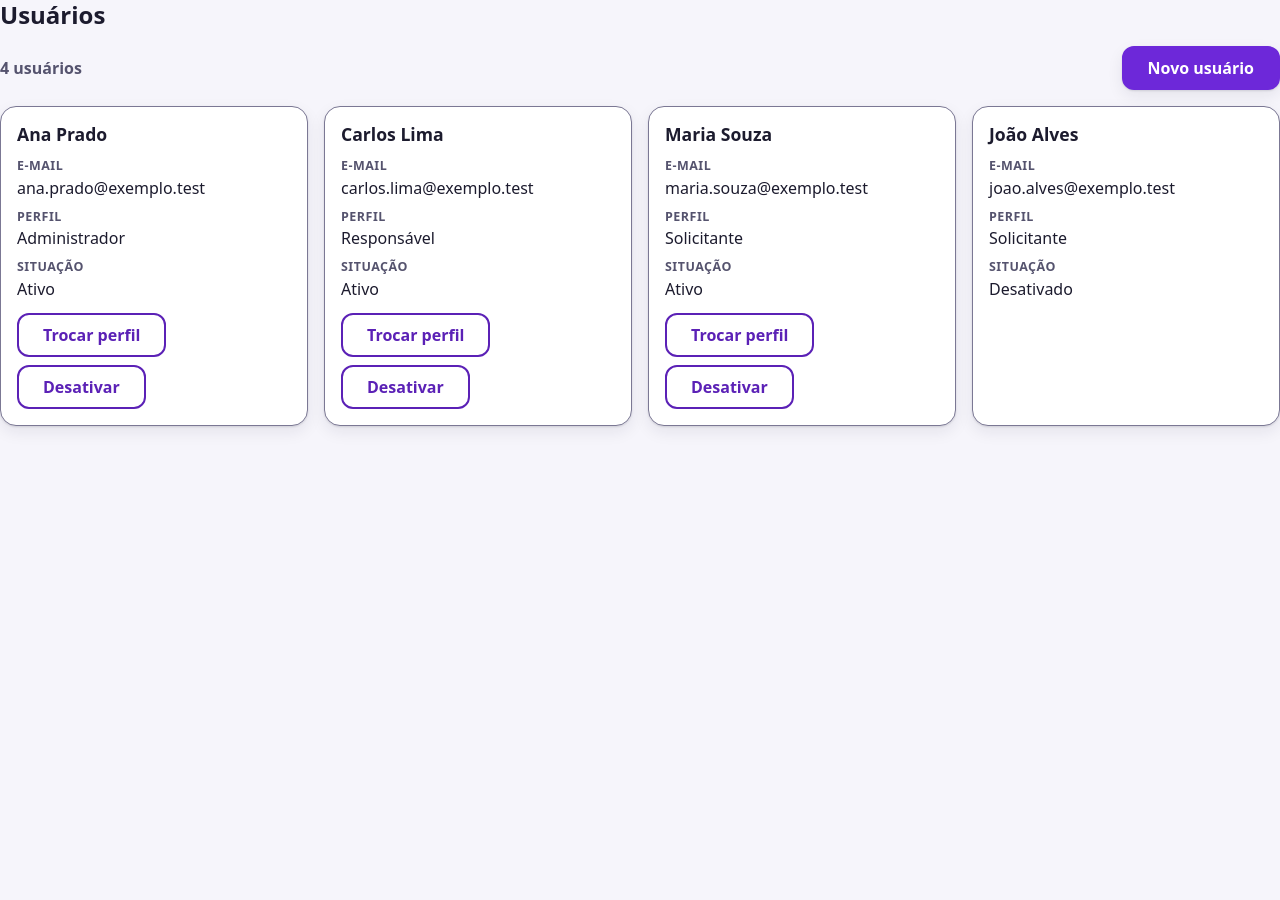
Scenario: PaginaDeUsuarios: cadastro (RF-15) › enviar em branco aponta o que falta, leva o foco ao primeiro campo e não envia nada
Click the button "Novo usuário" at (1201, 68), box [1122,46,1279,90]
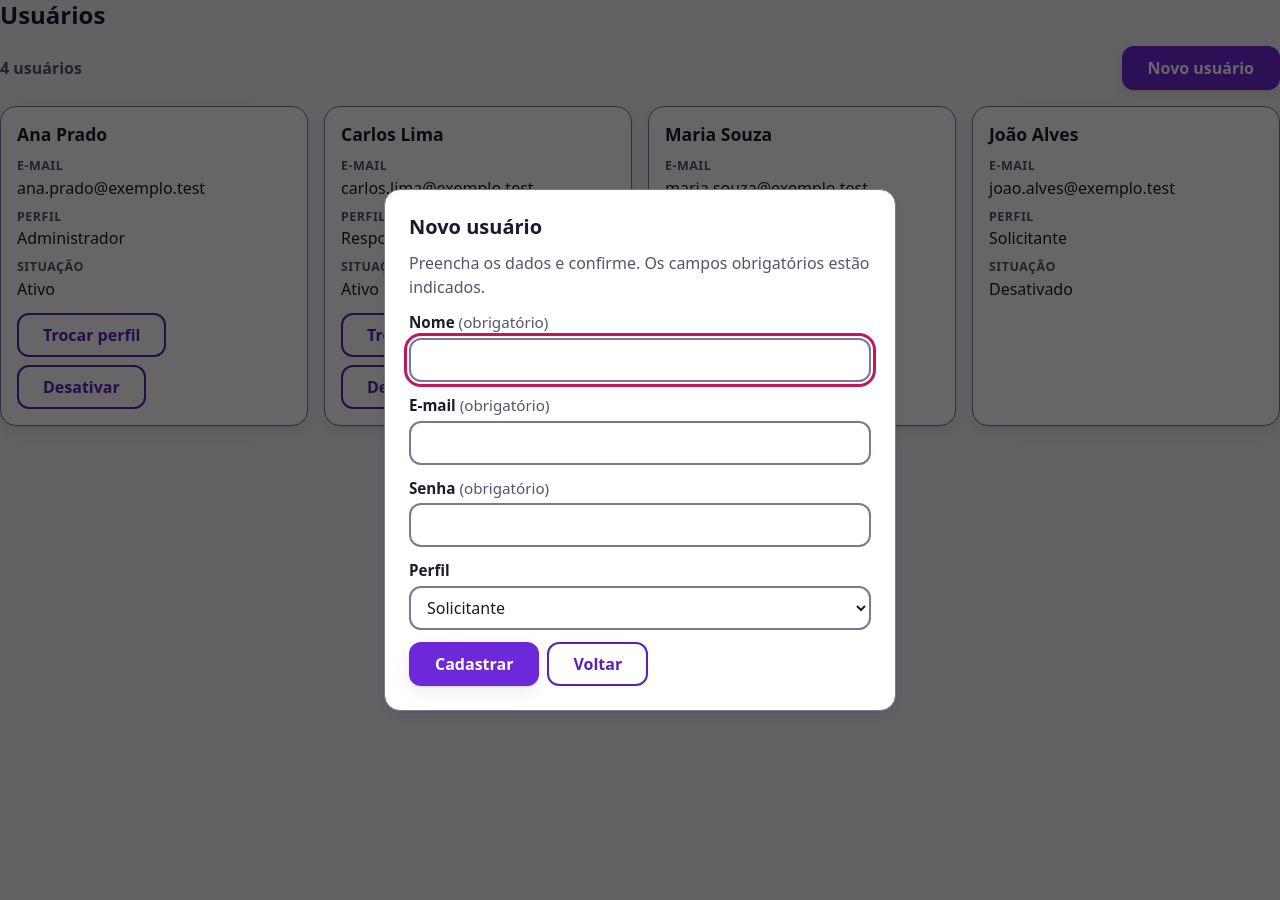
Click the button "Cadastrar" at (474, 664), box [409,642,539,686]
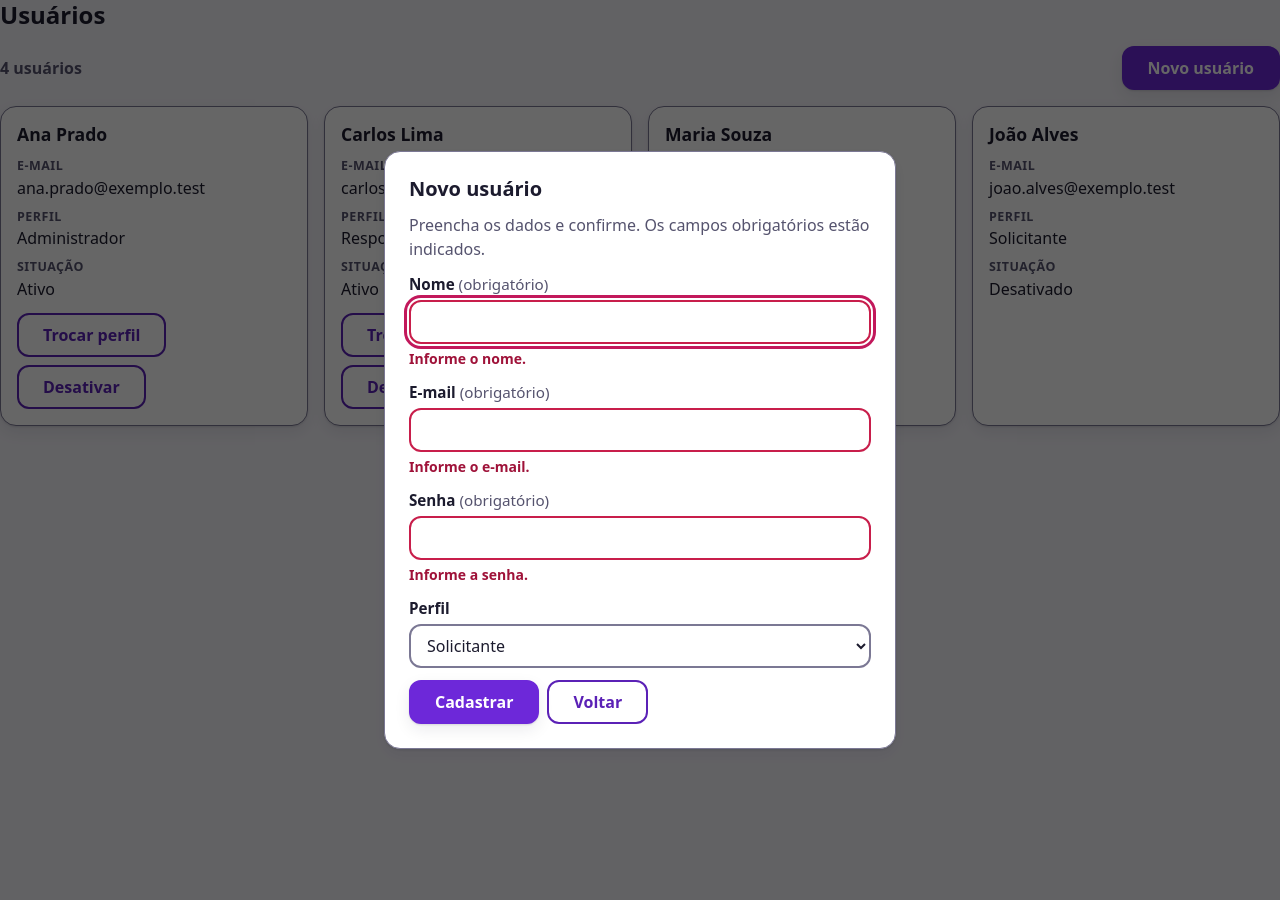
Result: the text "Informe o nome." is shown at [409,349,526,368]
Result: the text "Informe o e-mail." is shown at [409,457,530,476]
Result: the text "Informe a senha." is shown at [409,565,528,584]
